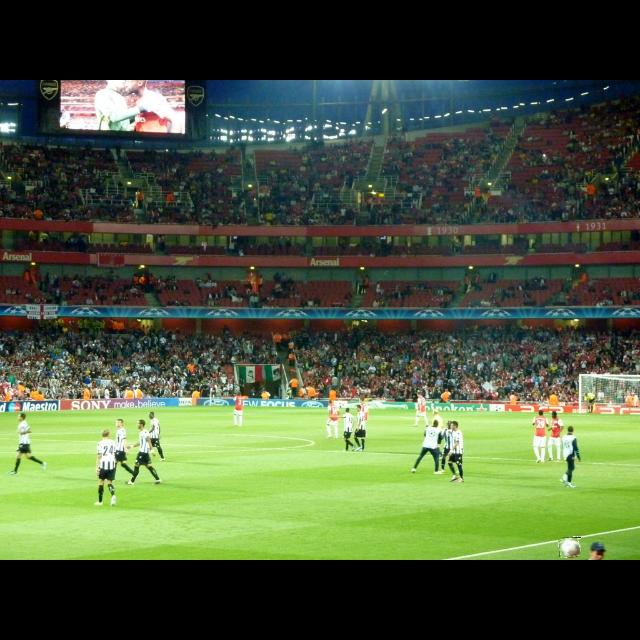Football: (559, 537, 581, 557)
